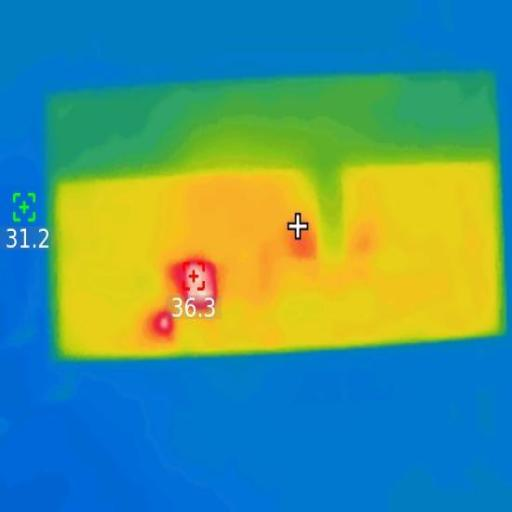hotspot: (167, 263, 219, 313), (158, 315, 175, 335)
